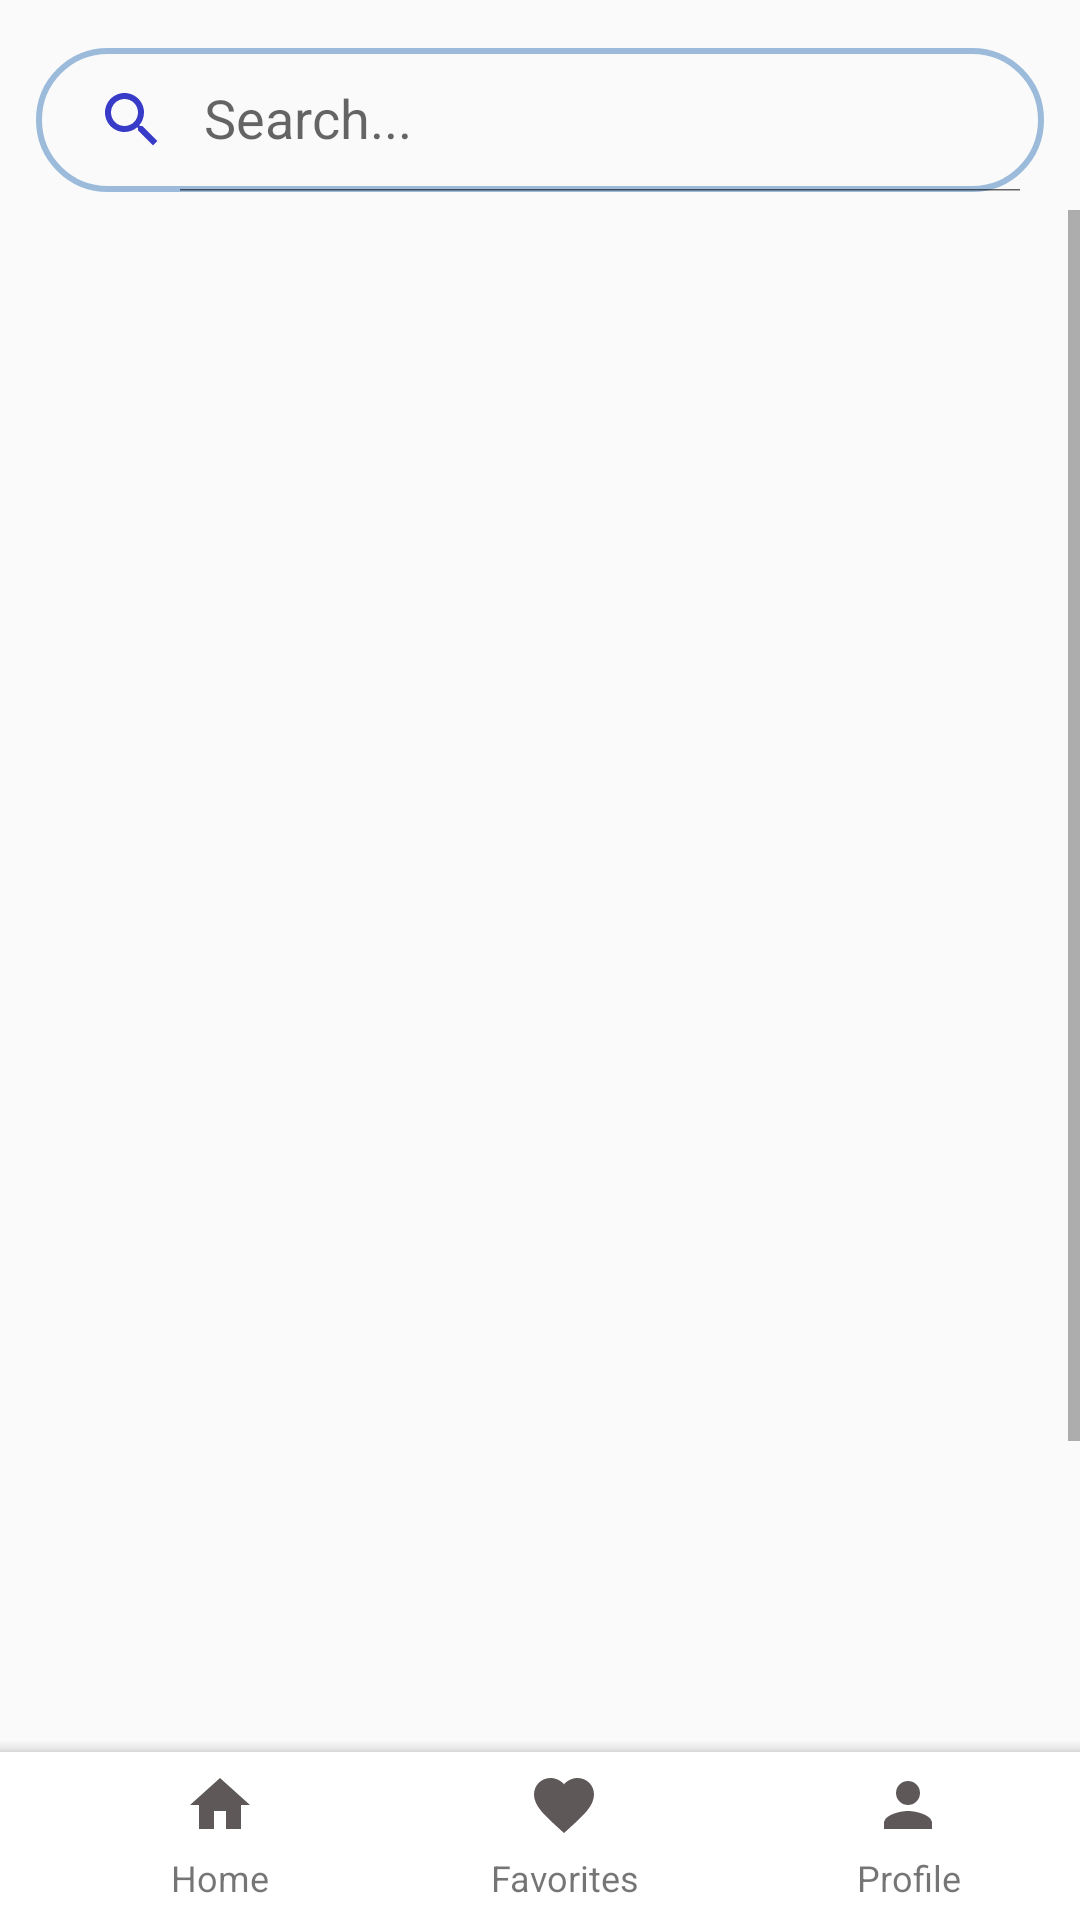

Named icons in this screenshot (1080 × 1920) and their centers, point (x, y):
person: point (908, 1805)
